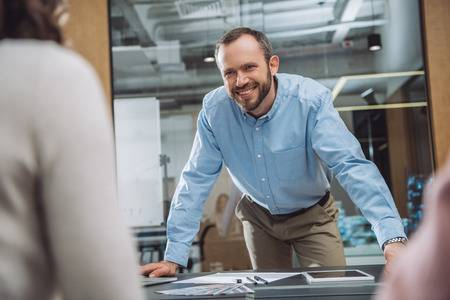F_shirt: (157, 74, 409, 269)
